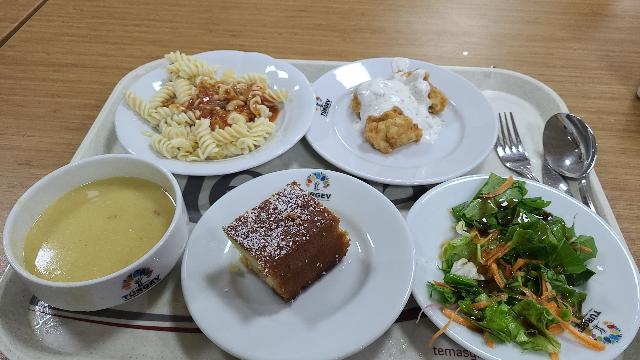Organik: (449, 177, 584, 339), (224, 182, 349, 303), (24, 181, 172, 270), (148, 71, 279, 155), (354, 71, 445, 151)
